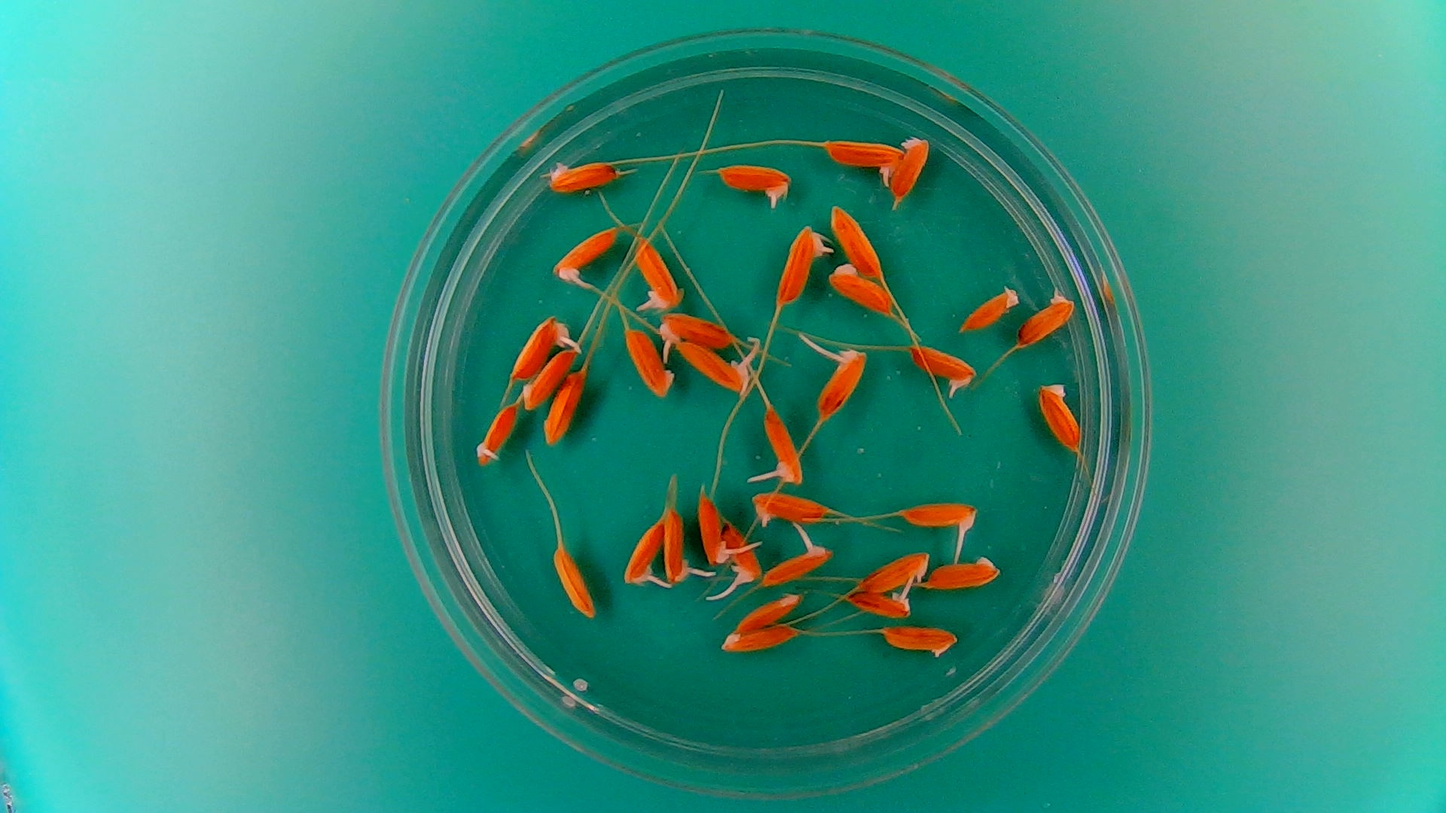no: (829, 203, 885, 279), (622, 324, 675, 398), (853, 548, 931, 597), (550, 539, 597, 620), (724, 590, 808, 635), (521, 346, 578, 412), (1035, 378, 1085, 453), (876, 622, 965, 661), (542, 369, 587, 446), (827, 263, 893, 315), (957, 282, 1021, 335), (541, 155, 622, 196), (922, 553, 1002, 592), (715, 622, 810, 653), (891, 132, 932, 200)
yes: (774, 224, 831, 306), (813, 340, 870, 421), (673, 337, 752, 395), (550, 224, 619, 285), (630, 235, 685, 310), (508, 317, 572, 379), (908, 343, 978, 398), (1015, 288, 1077, 348), (715, 161, 793, 208), (621, 517, 669, 592), (758, 539, 829, 589), (656, 309, 739, 351), (762, 405, 804, 486), (472, 400, 520, 466), (749, 486, 830, 525), (826, 137, 907, 173), (696, 490, 730, 569), (842, 588, 916, 622), (897, 500, 977, 531), (723, 521, 761, 583), (661, 507, 689, 580)
